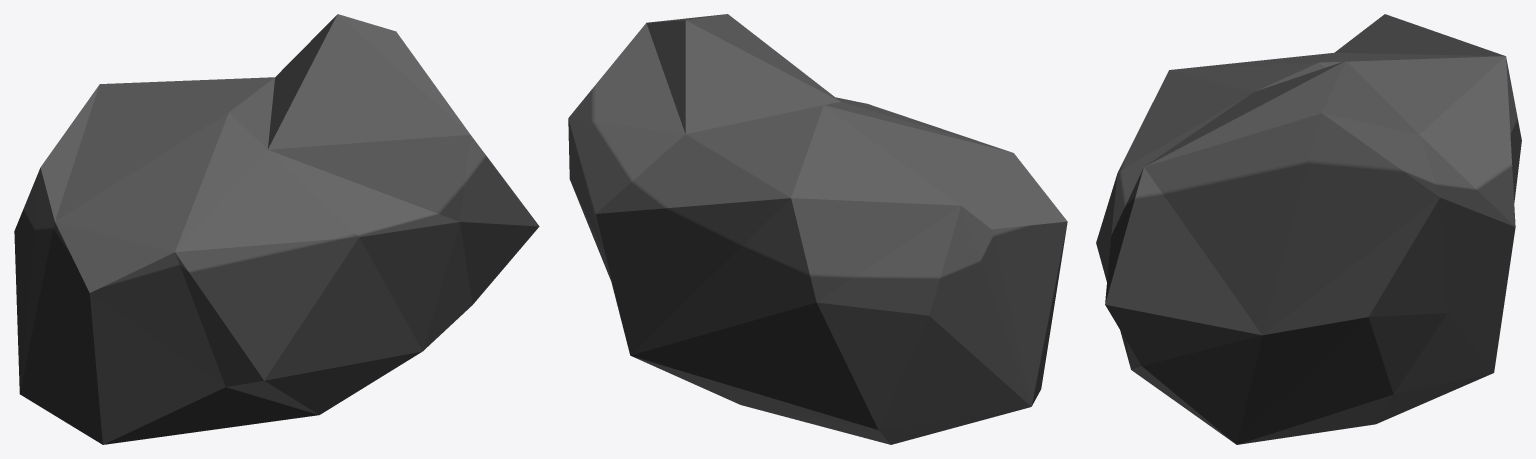
Rendered from rock02.fbx.
3 renders of one model, left to right at view 1: azimuth 30°, elevation 25°; view 2: azimuth 150°, elevation 25°; view 3: azimuth 270°, elevation 25°, orthographic. The views are drawn at different scales.
Visible parts, largest first — view 1: ROCK2; view 2: ROCK2; view 3: ROCK2.
Part boxes in pixels (<box>): ROCK2: <box>14,14,539,444</box>; ROCK2: <box>568,14,1067,444</box>; ROCK2: <box>1096,14,1521,444</box>.
Size of the model in its own units: 273 by 216 by 202.
Materials: 1 (1 with a texture image).
